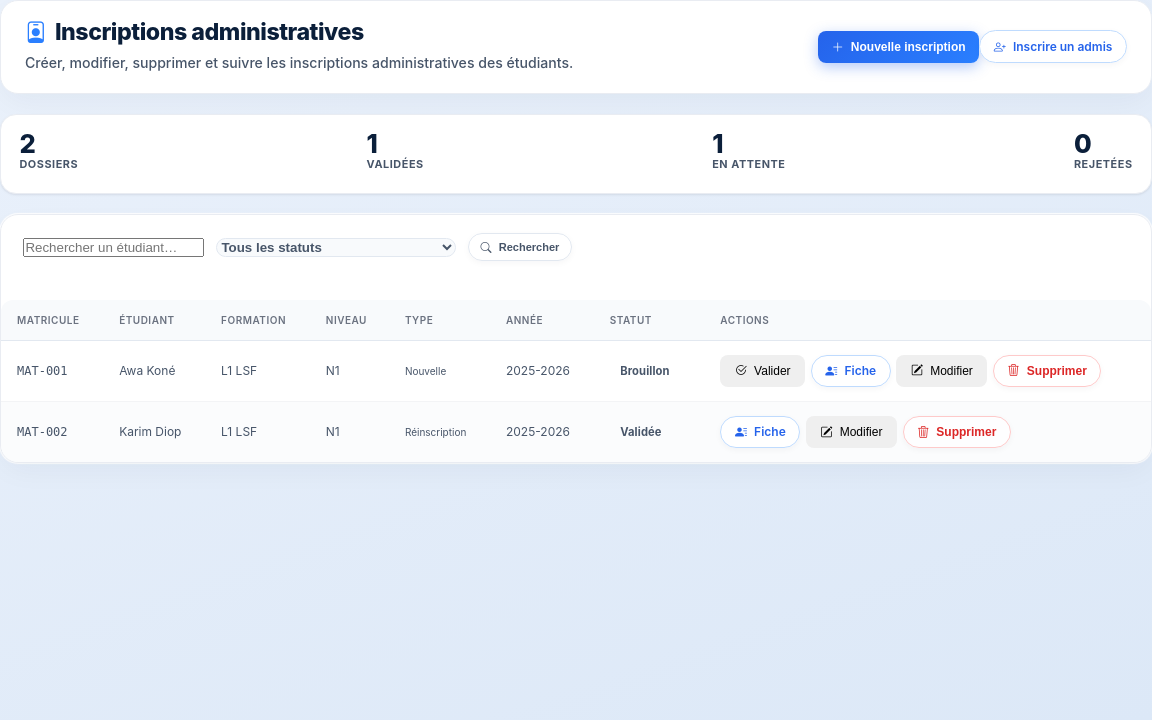
Scenario: pages/scolarite/Inscriptions — validation en cascade › s’arrête et notifie si une transition de la cascade est rejetée
Check: the text "MAT-001" is shown, box [17, 364, 68, 378]
Click the button "Valider" at (763, 371), box [720, 354, 805, 387]
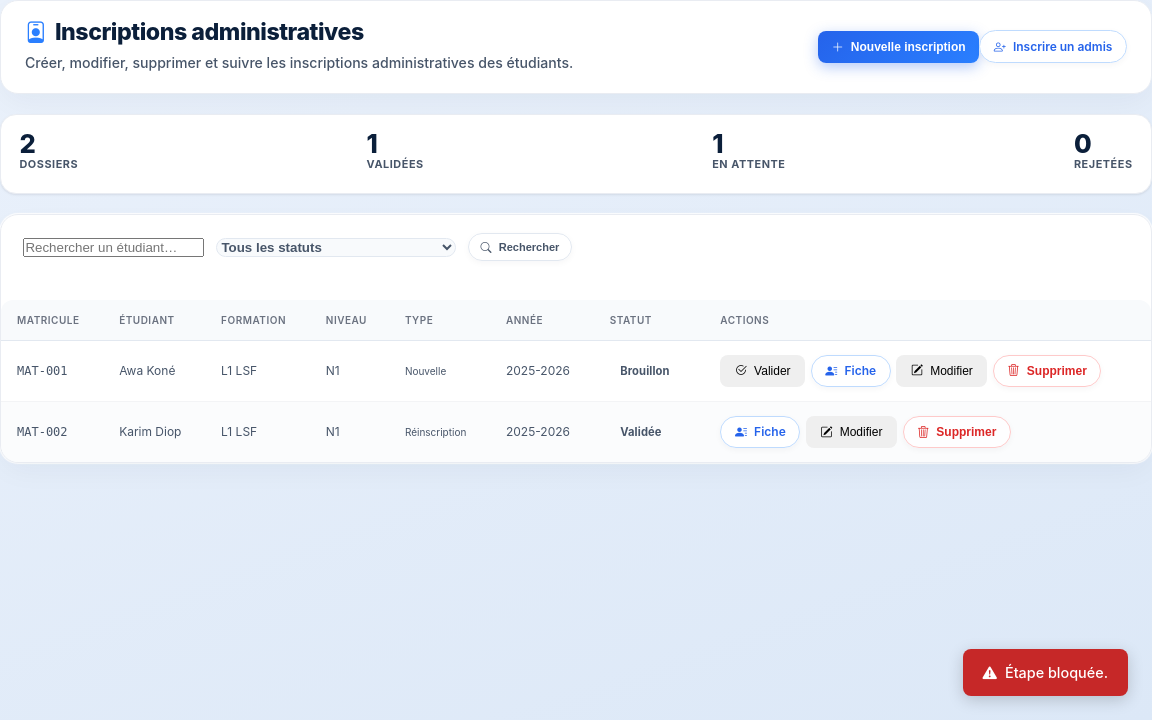
Check: the text "Étape bloquée." is shown, box [962, 649, 1128, 696]
